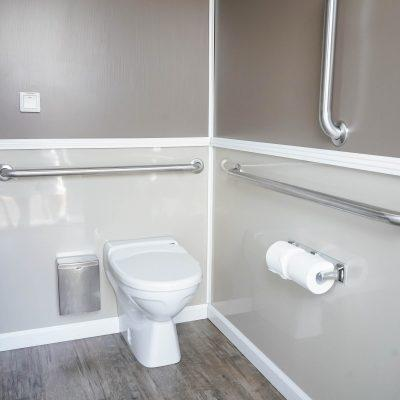dispenser: (265, 237, 342, 302)
restroom_assist_bar: (217, 155, 400, 228), (1, 158, 203, 182), (316, 1, 348, 144)
toilet: (101, 236, 203, 368)
waste_bin: (53, 255, 103, 316)
